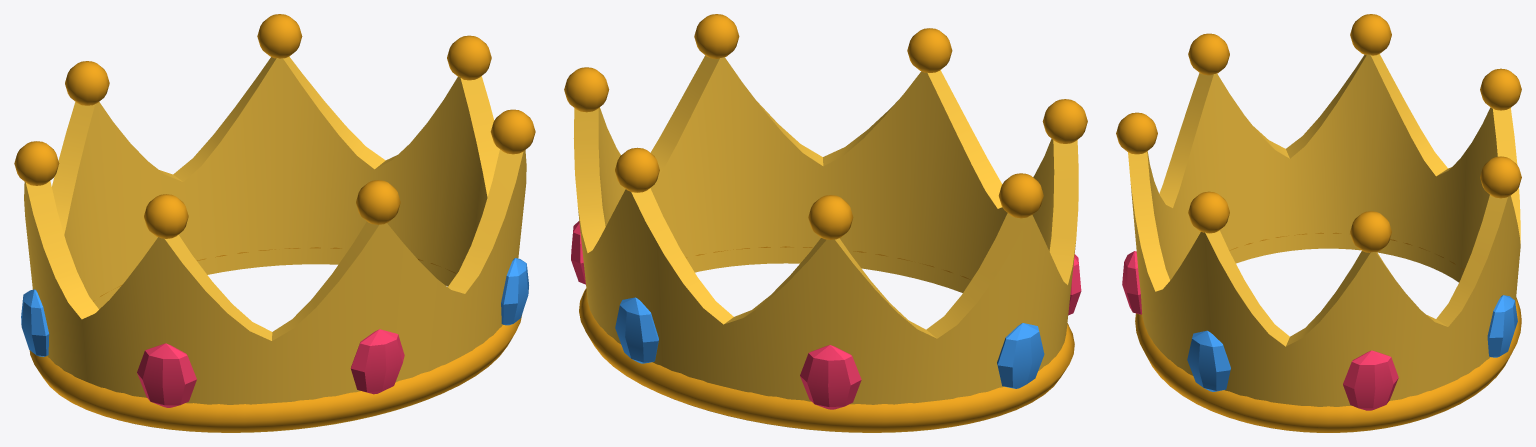
File: crown.glb
3 views of the same model, side by side, from view 1: azimuth 30°, elevation 25°; view 2: azimuth 150°, elevation 25°; view 3: azimuth 270°, elevation 25° (orthographic). The views are drawn at different scales.
Visible parts, largest first — view 1: crown; view 2: crown; view 3: crown.
Boxes of the visible parts, bbox=[...] form: crown: bbox=[14, 14, 535, 432]; crown: bbox=[564, 14, 1087, 432]; crown: bbox=[1116, 14, 1521, 432].
Size of the model in its own units: 0.6292 by 0.302 by 0.5021.
